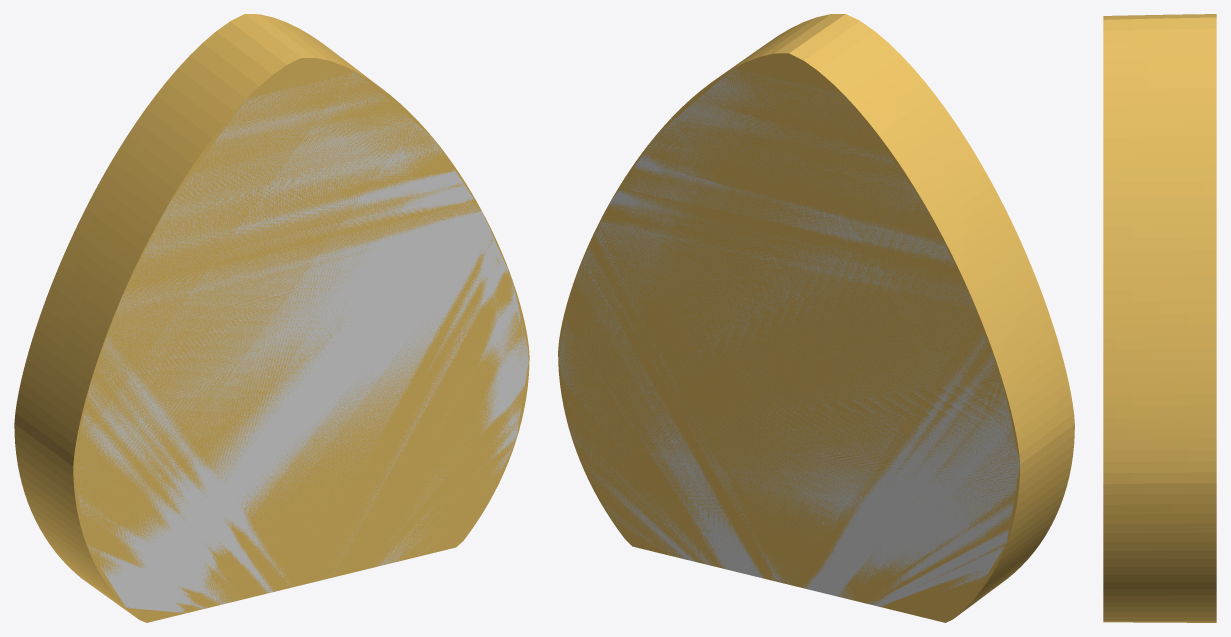
File: fuel_aux.fbx
3 renders of one model, left to right at view 1: azimuth 30°, elevation 25°; view 2: azimuth 150°, elevation 25°; view 3: azimuth 270°, elevation 25°, orthographic.
Parts seen in each view (by area): view 1: fuel_aux, fuel_aux_colmesh0; view 2: fuel_aux, fuel_aux_colmesh0; view 3: fuel_aux.
Part boxes in pixels (x1,y1,x2,y2): fuel_aux: [14, 14, 529, 622]; fuel_aux_colmesh0: [73, 72, 529, 612]; fuel_aux: [558, 14, 1074, 622]; fuel_aux_colmesh0: [559, 68, 1019, 612]; fuel_aux: [1103, 14, 1216, 622].
Size of what is drawn, in the model's own units: 1.17 by 1.29 by 0.25.
